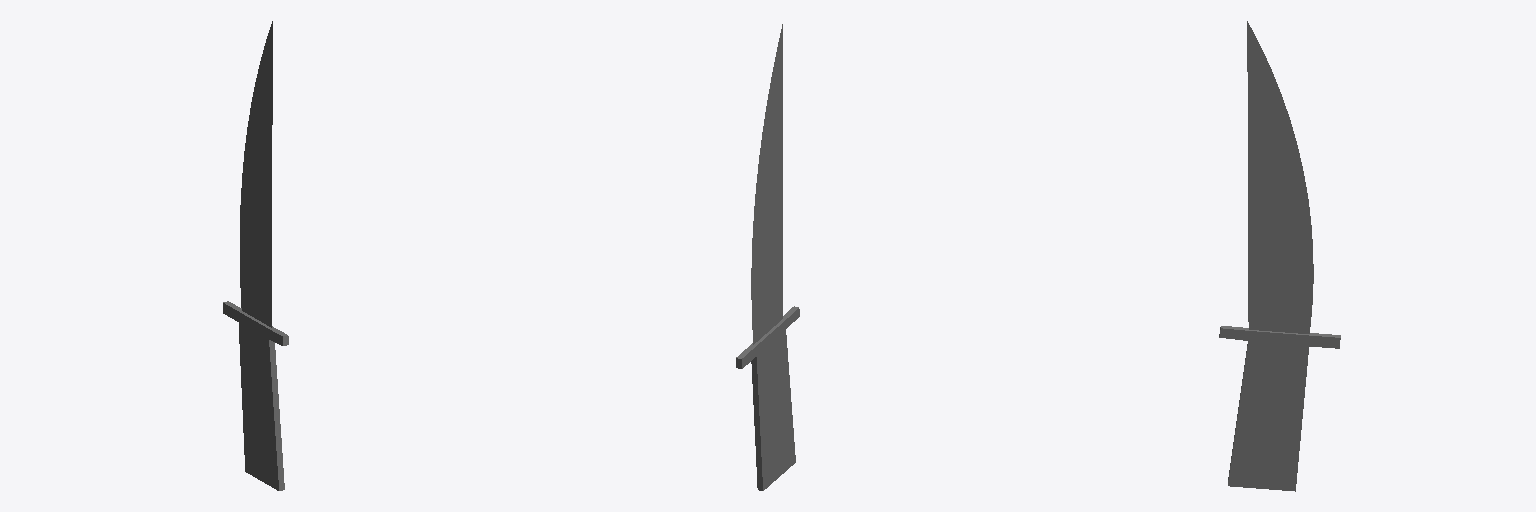
robot.urdf — object:
<?xml version="1.0"?>
<robot name="object">
  <link name="object">
    <visual>
      <origin xyz="0 0 0"/>
      <geometry>
        <mesh
          filename="../../mesh/oakink_virtual/knife_s347.stl" />
      </geometry>
      <material name="mat">
        <color rgba="0.5 0.5 0.5 1"/>
      </material>
    </visual>

    <collision>
      <origin xyz="0 0 0"/>
      <geometry>
        <mesh
          filename="../../mesh/oakink_virtual/knife_s347.stl" />
      </geometry>
    </collision>
  </link>
</robot>

--- Render facts (derived) ---
The picture shows the robot from 3 angles, left to right: view 1: azimuth 30°, elevation 25°; view 2: azimuth 150°, elevation 25°; view 3: azimuth 270°, elevation 25°; orthographic projection.
Robot: object — 1 links, 0 joints (none); root link object; default pose: every joint at zero.
Visible links, largest first — view 1: object; view 2: object; view 3: object.
Link boxes in pixels (x1,y1,x2,y2): object: (223, 21, 288, 490); object: (736, 24, 799, 490); object: (1219, 21, 1340, 491).
Bounding box of the posed robot: 0.003 × 0.0539 × 0.2302 m (x, y, z).
1 mesh visuals loaded from 1 distinct referenced files (1 binary STL).